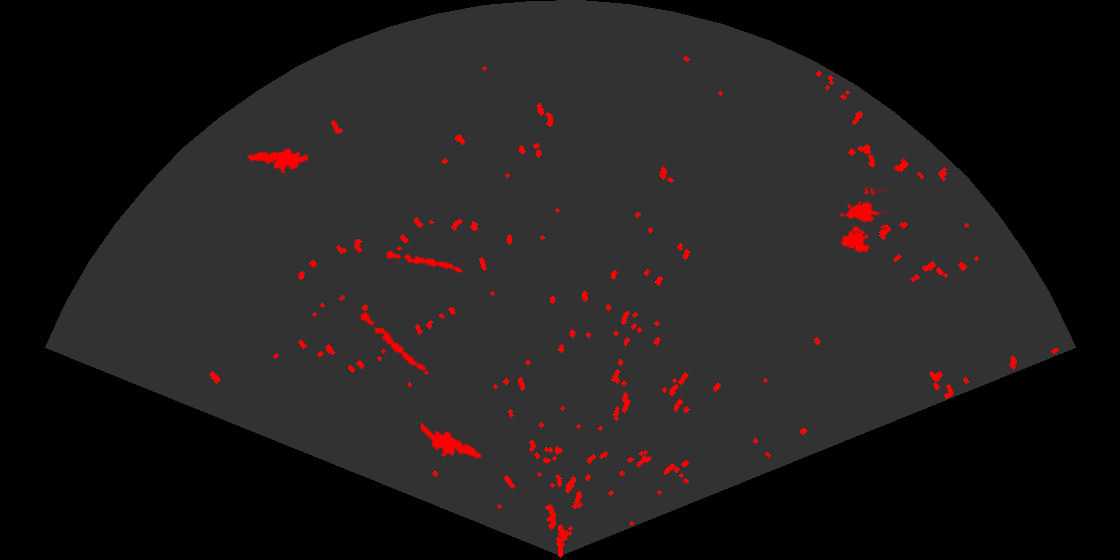cage: (838, 188, 887, 254)
chain: (349, 304, 428, 372), (384, 249, 465, 274)
frogman: (421, 421, 484, 461), (245, 147, 308, 175)
